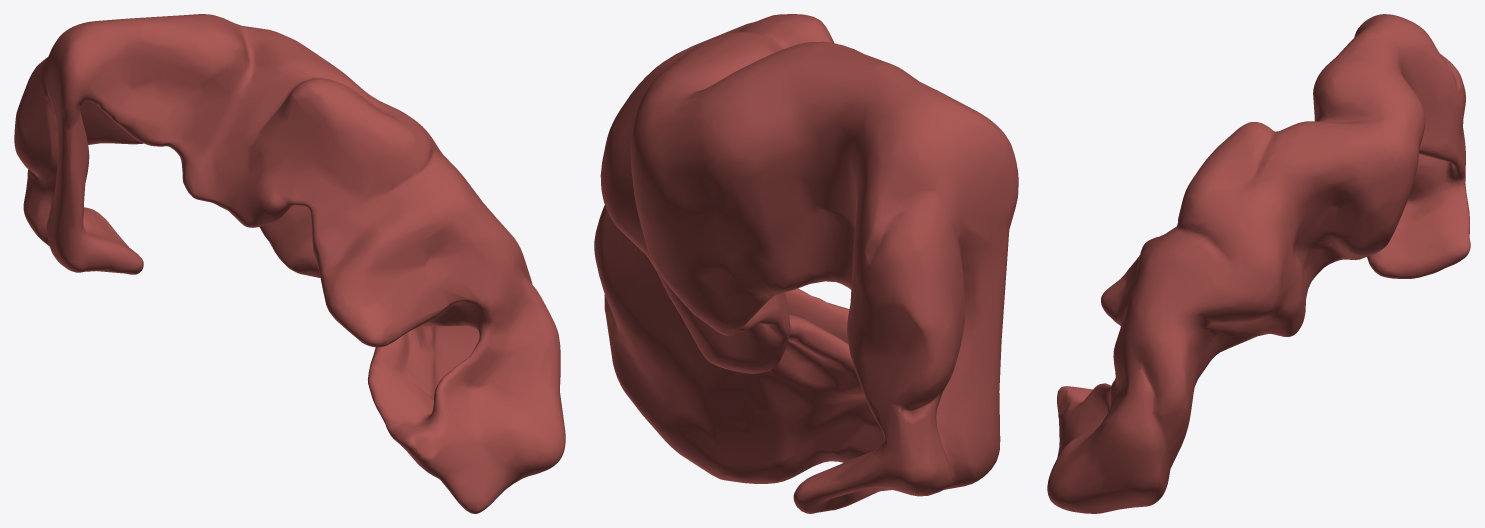
Rendered from FMA72662.glb.
3 views of the same model, side by side, from view 1: azimuth 30°, elevation 25°; view 2: azimuth 150°, elevation 25°; view 3: azimuth 270°, elevation 25° (orthographic). The views are drawn at different scales.
Visible parts, largest first — view 1: FMA72662; view 2: FMA72662; view 3: FMA72662.
Part boxes in pixels (x1=…): FMA72662: x1=14, y1=14, x2=565, y2=513; FMA72662: x1=594, y1=14, x2=1018, y2=513; FMA72662: x1=1047, y1=14, x2=1470, y2=513.
Size of the model in its own units: 0.0592 by 0.0626 by 0.062.
